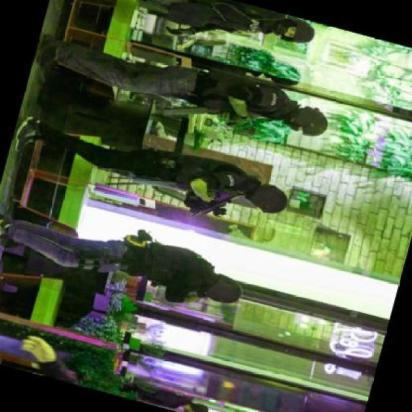Gun: (182, 177, 243, 229)
